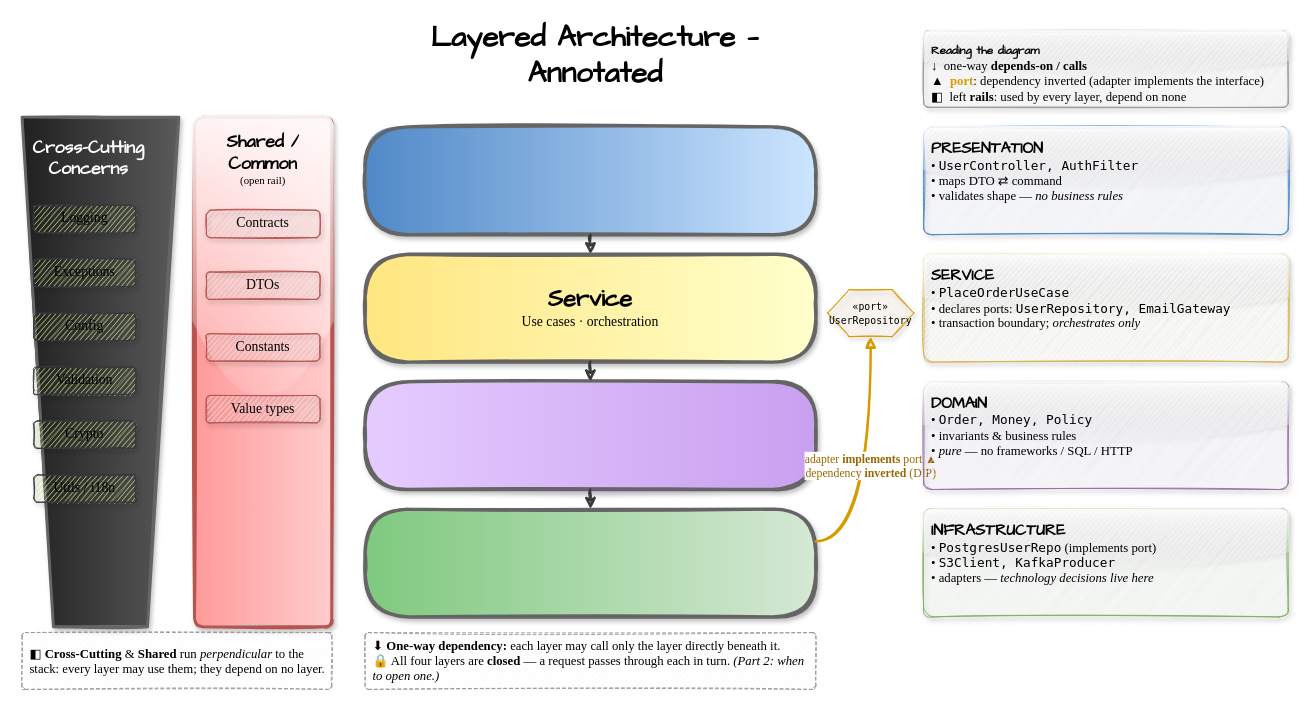
The diagram is 1311 pixels wide and 707 high, and some of its shapes have lost their labels. The shapes that lost their labels are listed below. From the top down, each one's centre as x and y in pixels, then its label:
At pixel 591 182: "Presentation Controllers · DTOs".
At pixel 591 437: "Domain Entities · business rules".
At pixel 591 564: "Infrastructure DB · queues · external APIs".
